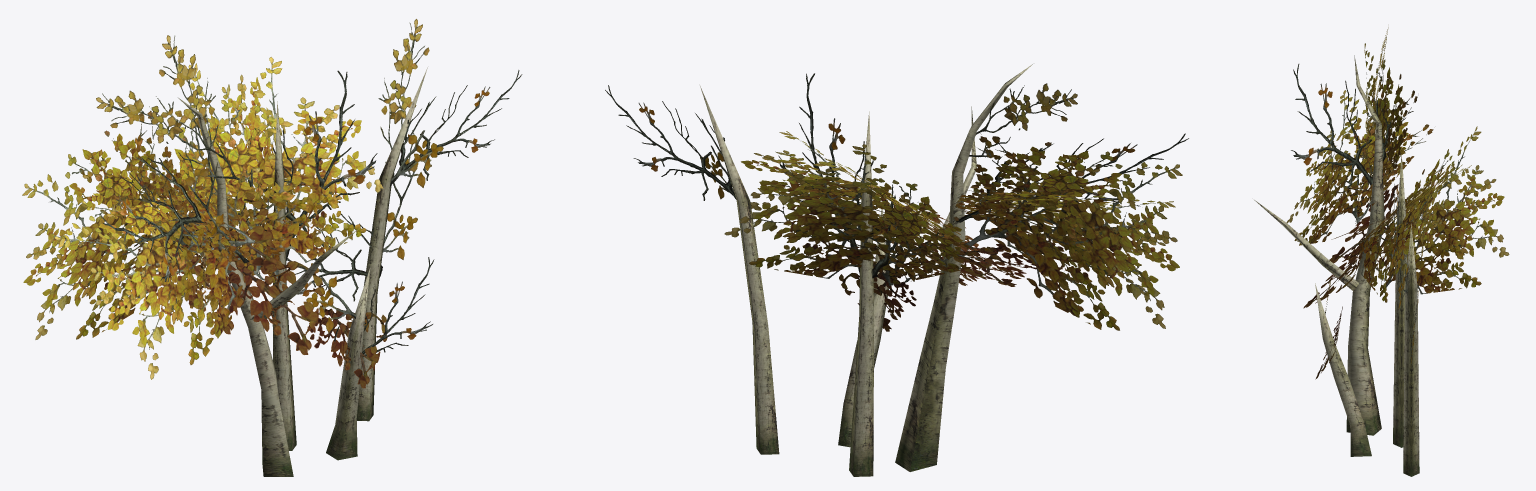
Rendered from yw_xingzilin_baihuashu02.FBX.
3 renders of one model, left to right at view 1: azimuth 30°, elevation 25°; view 2: azimuth 150°, elevation 25°; view 3: azimuth 270°, elevation 25°, orthographic. The views are drawn at different scales.
Visible parts, largest first — view 1: yw_xingzilin_baihuashu02; view 2: yw_xingzilin_baihuashu02; view 3: yw_xingzilin_baihuashu02.
Boxes of the visible parts, bbox=[...] form: yw_xingzilin_baihuashu02: bbox=[22, 19, 522, 476]; yw_xingzilin_baihuashu02: bbox=[605, 64, 1188, 476]; yw_xingzilin_baihuashu02: bbox=[1254, 27, 1509, 476].
Size of the model in its own units: 737 by 572 by 371.
1 material, 1 textured.
